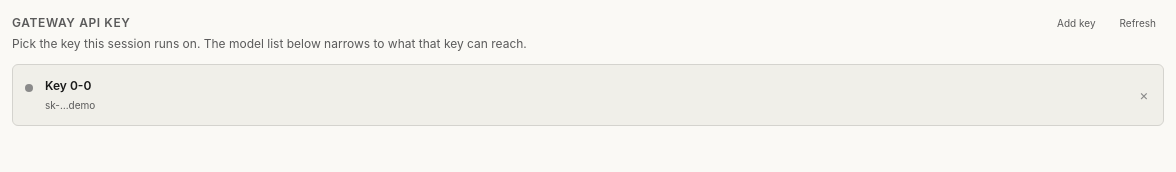
Pi gateway loading › keeps existing keys available when a manual refresh fails
Click the button "Refresh" at (1138, 24), box [1112,12,1164,35]
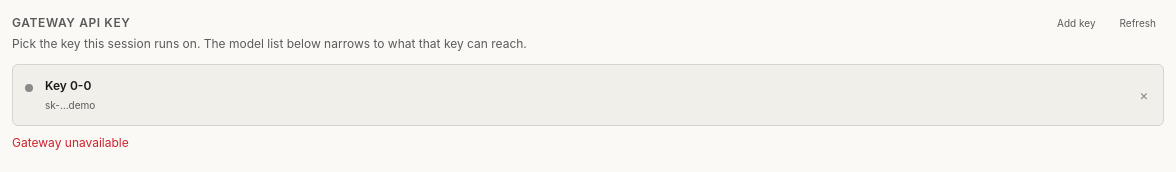
Check: the button "Key 0-0 sk-…demo" is enabled, box [12,64,1164,126]
Check: the text "Gateway unavailable" is shown, box [12,135,129,150]
